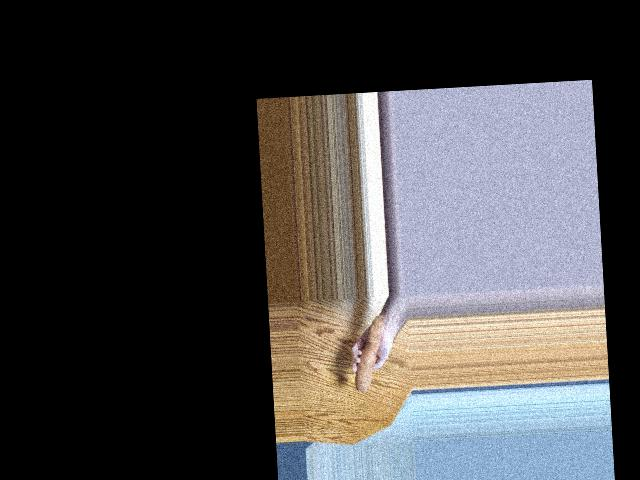sweet_potato: (348, 324, 384, 403)
